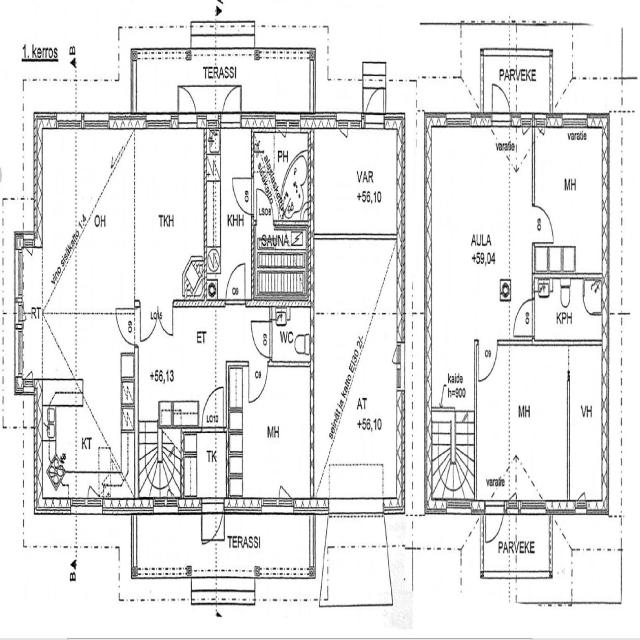door: (509, 295, 536, 342), (475, 336, 500, 386), (201, 382, 227, 430), (482, 498, 506, 549), (200, 498, 225, 544), (225, 259, 248, 305), (532, 202, 556, 245), (231, 173, 255, 216), (114, 305, 138, 348), (176, 82, 199, 126), (247, 361, 269, 405), (490, 81, 512, 124), (220, 83, 242, 125), (250, 318, 273, 358), (364, 86, 385, 128), (155, 300, 176, 341), (139, 304, 159, 344), (336, 110, 352, 142), (533, 111, 548, 142), (574, 491, 589, 515)
window: (258, 493, 294, 518), (143, 110, 175, 135), (444, 108, 474, 132), (82, 110, 111, 134), (334, 111, 360, 136), (560, 109, 589, 131), (518, 497, 548, 518), (275, 112, 302, 135), (152, 497, 180, 517), (73, 497, 102, 516), (444, 498, 470, 519), (275, 485, 295, 512), (574, 492, 589, 516)
zone: (37, 124, 136, 498), (429, 126, 530, 339), (477, 342, 573, 507), (131, 127, 206, 303), (227, 362, 317, 507), (533, 122, 607, 277), (311, 127, 402, 239), (138, 314, 224, 424), (205, 128, 255, 292), (254, 132, 312, 240), (532, 277, 602, 348), (256, 227, 310, 296), (182, 428, 230, 504), (270, 299, 312, 366), (15, 242, 41, 320)
